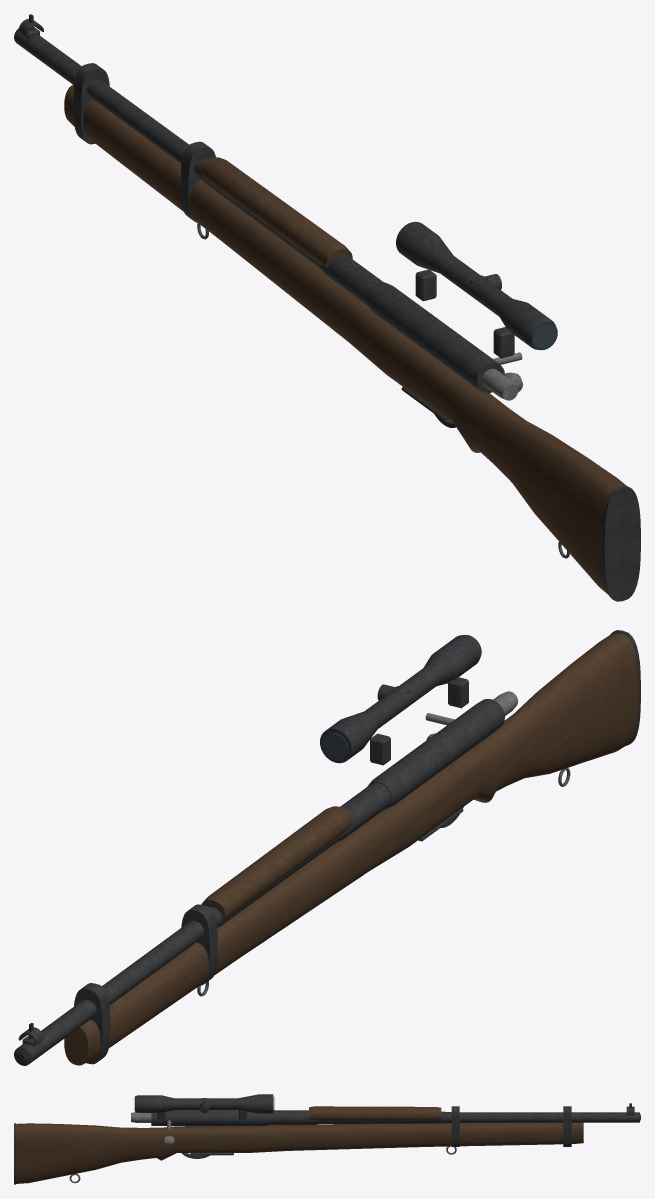
Rendered from mosin.glb.
The picture shows the model from 3 angles, top to bottom: view 1: azimuth 30°, elevation 25°; view 2: azimuth 150°, elevation 25°; view 3: azimuth 270°, elevation 25°; orthographic projection. The views are drawn at different scales.
Parts seen in each view (by area): view 1: FP_body, TP_body, WD_body, FP_bolt; view 2: FP_body, TP_body, FP_bolt; view 3: FP_body, TP_body, FP_bolt, WD_body.
Boxes of the visible parts, <box> form: FP_body: <box>14,14,640,601</box>; TP_body: <box>16,32,640,601</box>; WD_body: <box>81,70,640,596</box>; FP_bolt: <box>482,352,522,400</box>; FP_body: <box>14,630,640,1065</box>; TP_body: <box>15,631,639,1065</box>; FP_bolt: <box>425,691,518,740</box>; FP_body: <box>14,1094,640,1184</box>; TP_body: <box>14,1106,639,1184</box>; FP_bolt: <box>131,1112,174,1146</box>; WD_body: <box>135,1097,272,1112</box>.
Size of the model in its own units: 0.091 by 0.212 by 1.23.
Materials: 6 (5 with a texture image).
